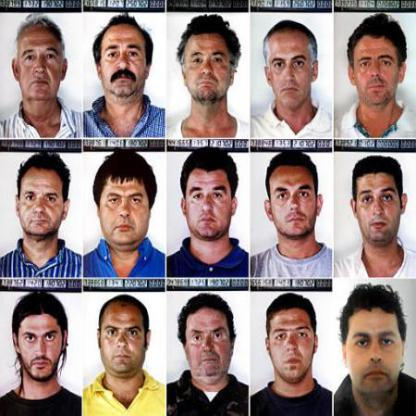face: (347, 289, 404, 398), (100, 156, 152, 249), (185, 153, 234, 240), (353, 21, 402, 108), (18, 16, 65, 104), (270, 153, 318, 239), (185, 20, 233, 103), (270, 296, 315, 384), (357, 159, 403, 245), (186, 297, 233, 381), (270, 22, 314, 110), (101, 296, 149, 376), (19, 296, 63, 383), (101, 19, 148, 100), (20, 159, 66, 237)
